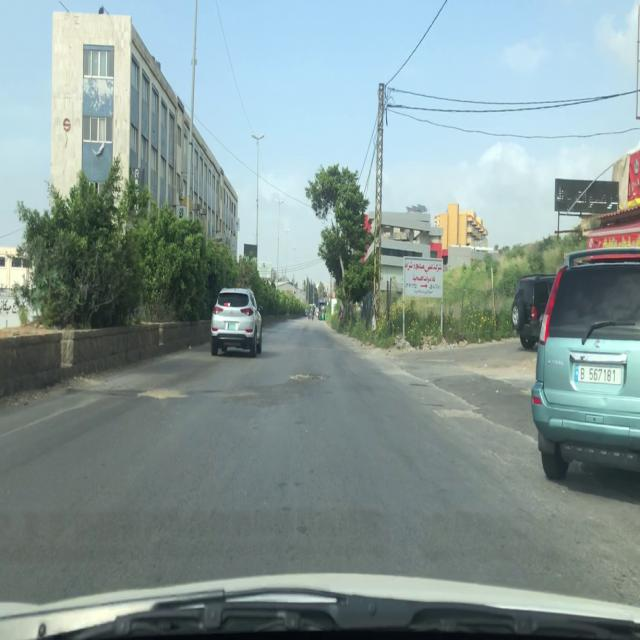Pothole: (136, 385, 189, 400), (289, 371, 332, 384)
